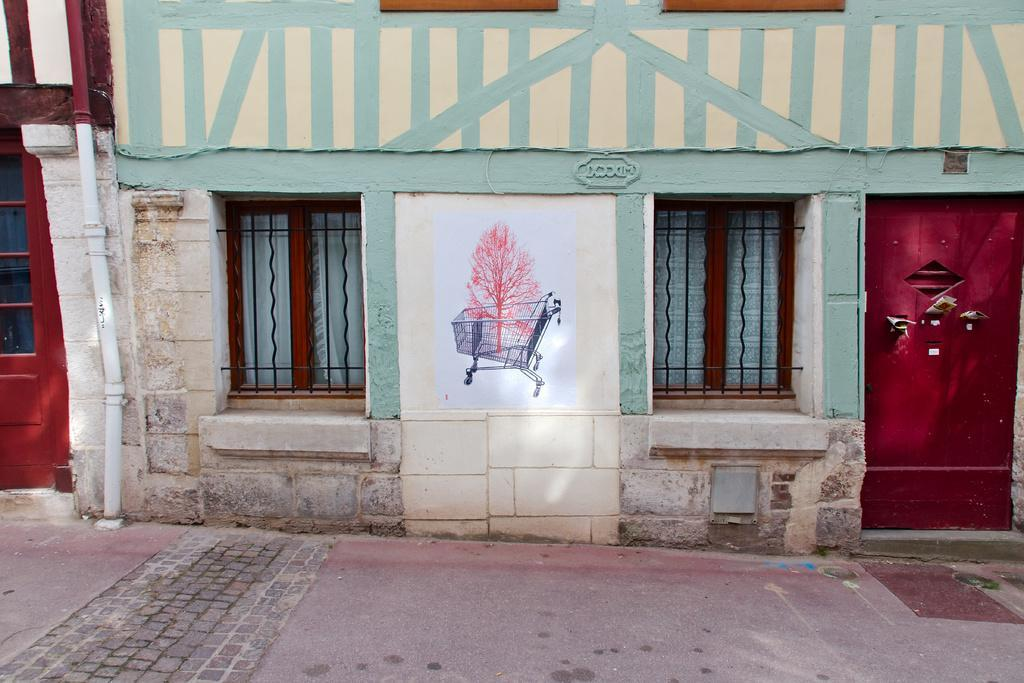door: (860, 203, 1022, 526), (0, 207, 52, 467)
